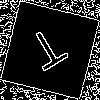T: (25, 25, 75, 80)
